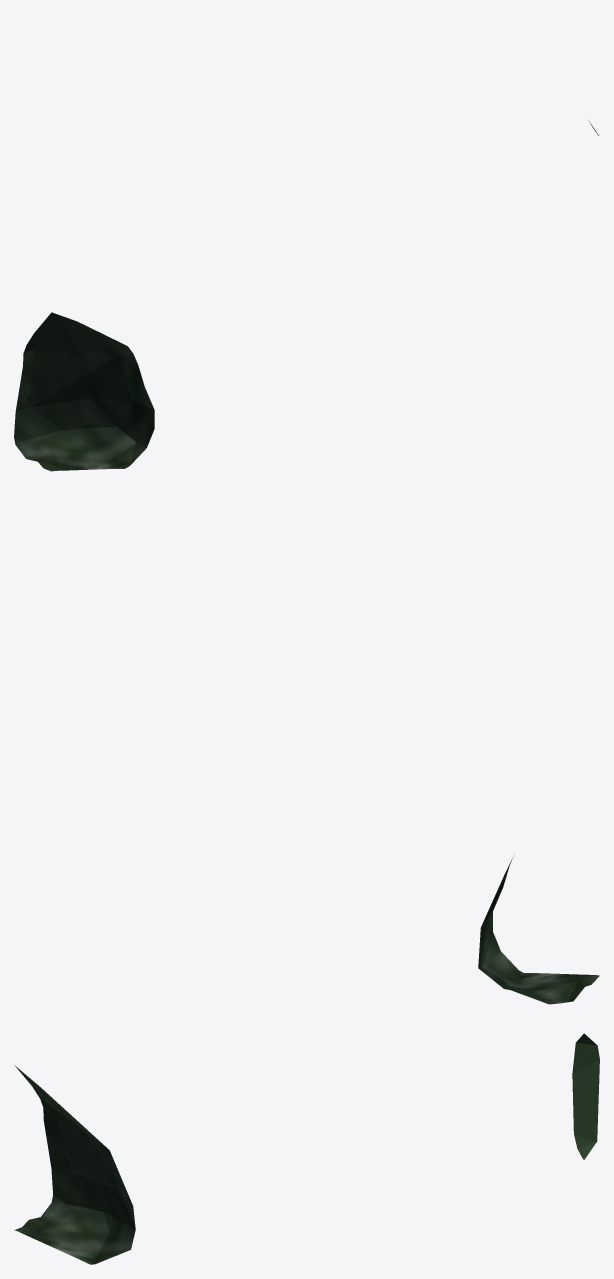
3 views of the same model, one above another, from view 1: azimuth 30°, elevation 25°; view 2: azimuth 150°, elevation 25°; view 3: azimuth 330°, elevation 25° (orthographic). The views are drawn at different scales.
Size of the model in its own units: 2.95 by 1.74 by 0.3676.
Materials: 1 (1 with a texture image).
